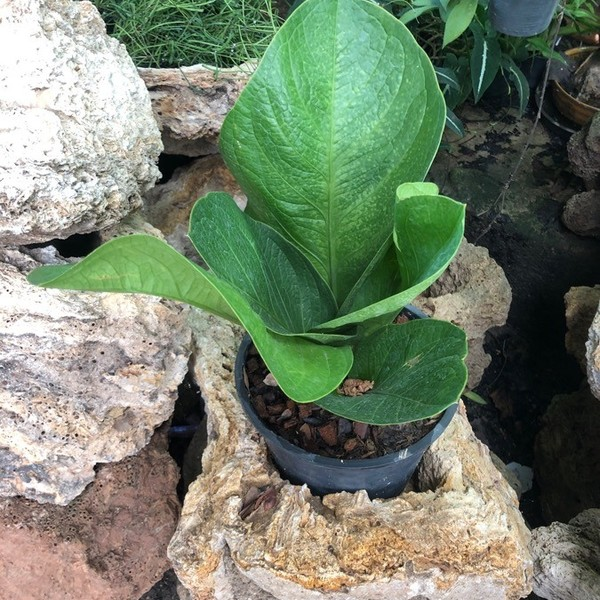obstacle: (147, 5, 475, 496)
